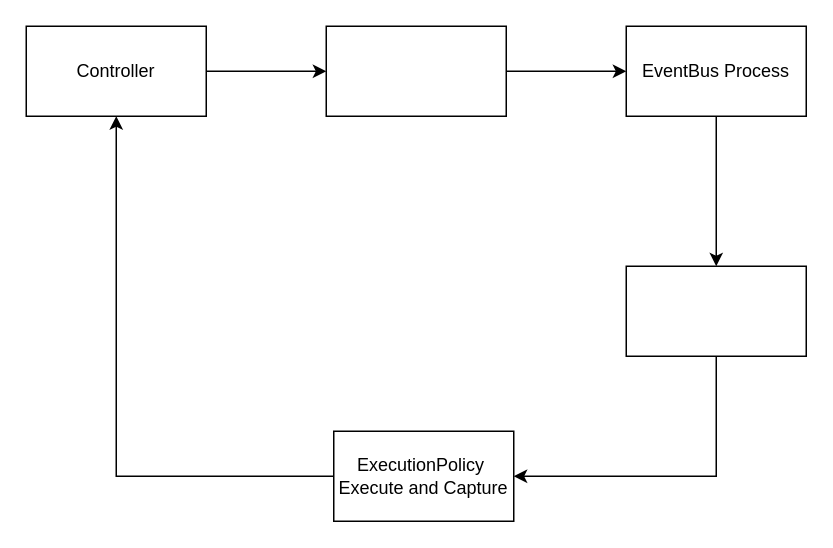
Image size: 833x548. Some labels were removed from this diagram. Each missing label, with the centre of its shape:
"Mediator Send" goes at point 715,310.
"Query" goes at point 415,70.
